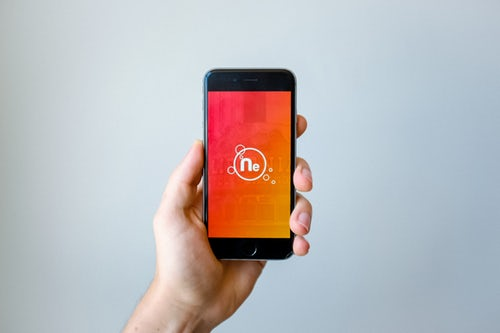phone: (197, 65, 301, 265)
